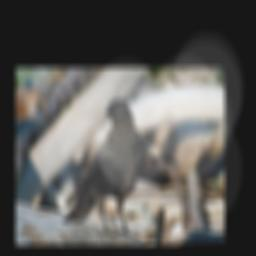Crow: (61, 97, 148, 239)
